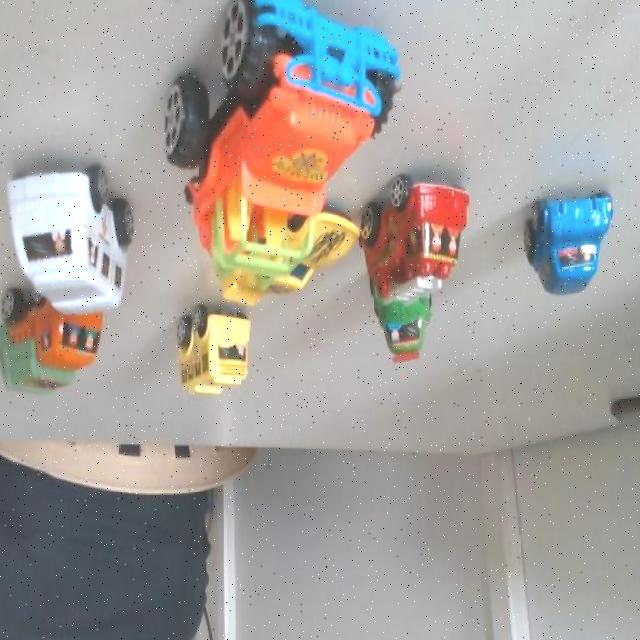car: (242, 0, 413, 198), (515, 165, 628, 312), (239, 192, 359, 309), (17, 179, 131, 300), (384, 163, 476, 302), (13, 282, 115, 402), (194, 308, 262, 404), (378, 268, 444, 358)
